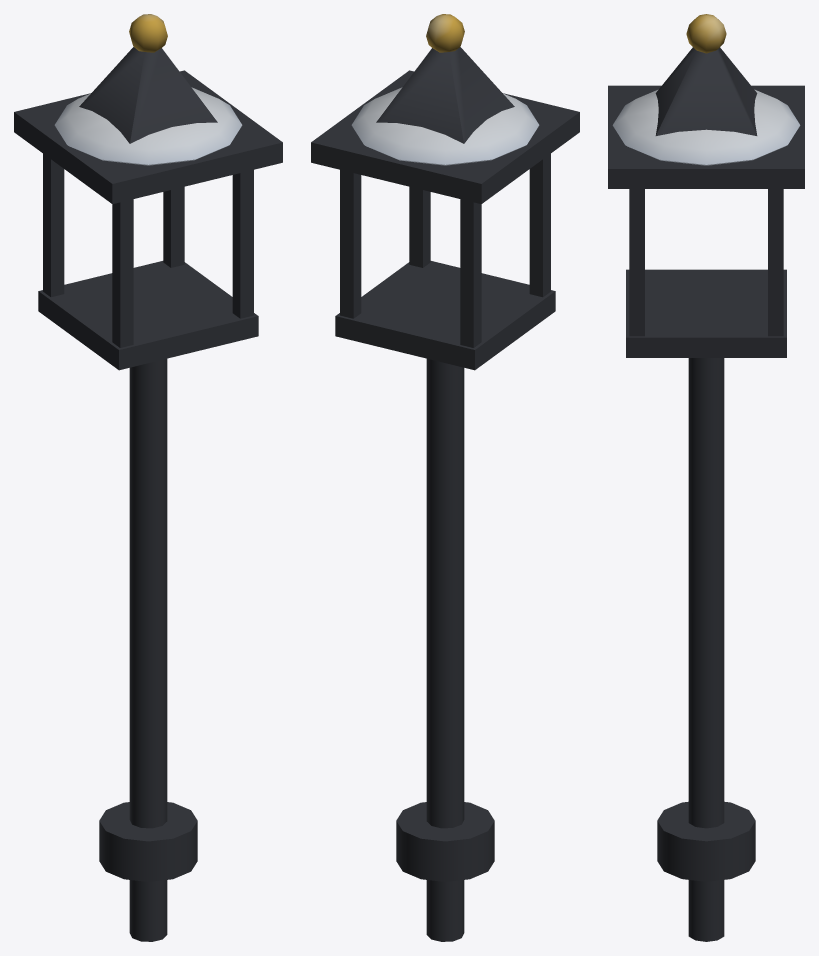
Rendered from Xmas_Lamp.fbx.
3 views of the same model, side by side, from view 1: azimuth 30°, elevation 25°; view 2: azimuth 150°, elevation 25°; view 3: azimuth 270°, elevation 25° (orthographic).
Visible parts, largest first — view 1: Xmas_Lamp; view 2: Xmas_Lamp; view 3: Xmas_Lamp.
Boxes of the visible parts, x1,y1,x2,y2 form: Xmas_Lamp: (14,14,282,941); Xmas_Lamp: (311,14,579,941); Xmas_Lamp: (608,14,804,941).
Bounding box in the file's own units: 4.4 × 22.65 × 4.4.
